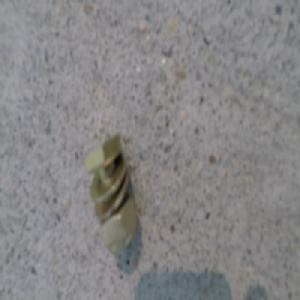BoltNutSet: (78, 131, 133, 245)
